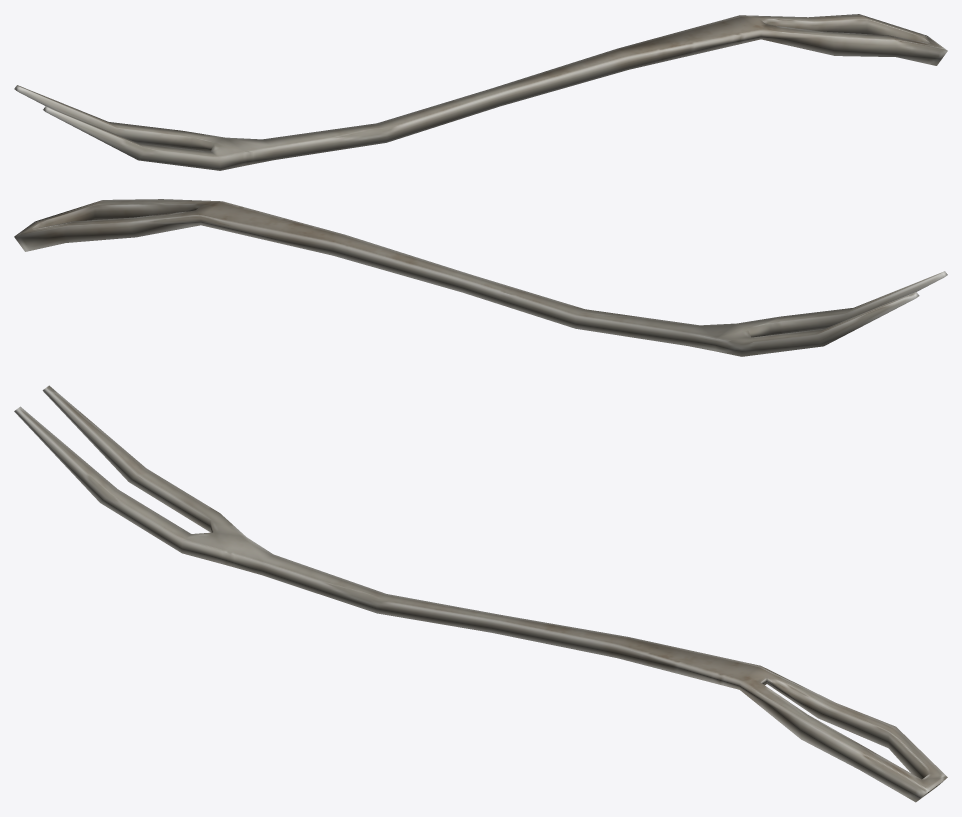
File: LongFork.fbx
3 views of the same model, one above another, from view 1: azimuth 30°, elevation 25°; view 2: azimuth 150°, elevation 25°; view 3: azimuth 330°, elevation 25° (orthographic).
Visible parts, largest first — view 1: U_LongFork; view 2: U_LongFork; view 3: U_LongFork.
Boxes of the visible parts, left/top/right/bottom form: U_LongFork: left=14, top=14, right=947, bottom=170; U_LongFork: left=14, top=199, right=947, bottom=356; U_LongFork: left=14, top=385, right=947, bottom=802.
Bounding box in the file's own units: 223 × 42.21 × 16.21.
1 material, 1 textured.
